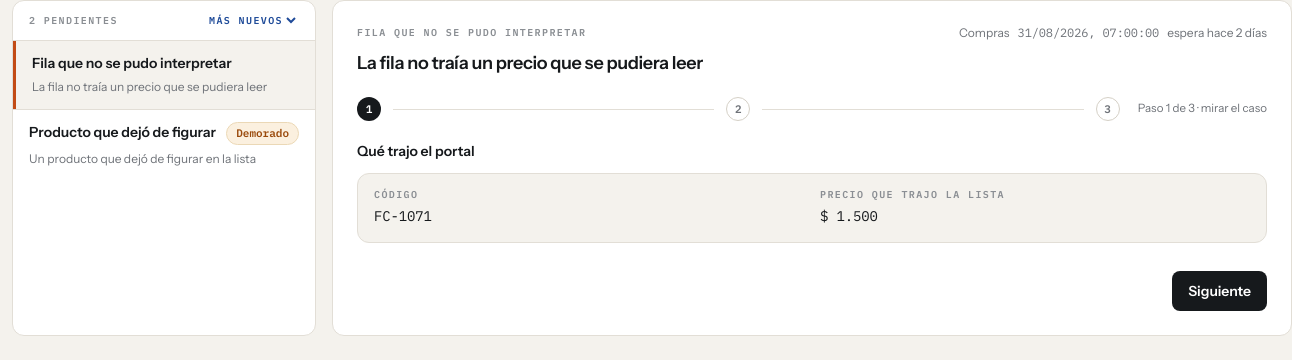
Scenario: la cola de pendientes › ordenar cambia la lista, y no de adorno
Select "Más viejos" in the dropdown named "Ordenar". click: (252,20)
box: top-left (205, 13), bottom-right (299, 28)
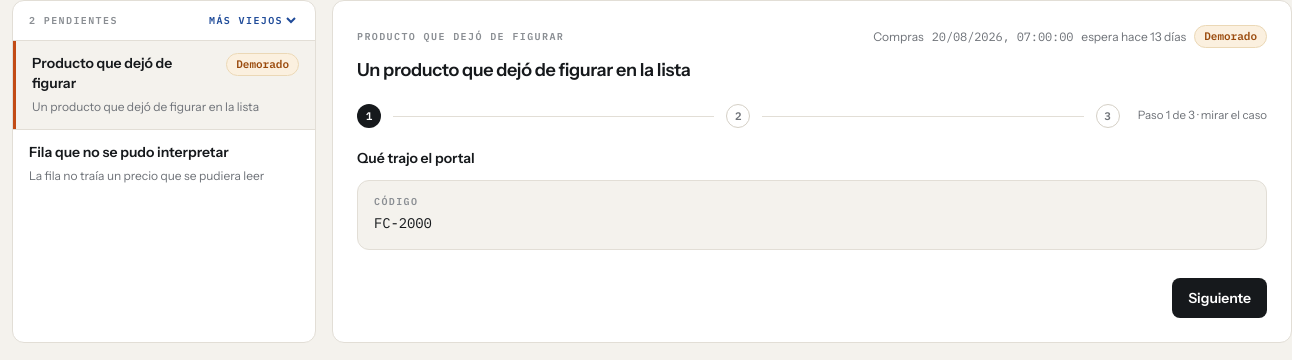
Expected: the button that starts with "Producto que dejó de figurar" is shown, top-left (13, 41), bottom-right (315, 128)
Result: the heading "Un producto que dejó de figurar en la lista" is shown at top-left (357, 59), bottom-right (690, 81)
